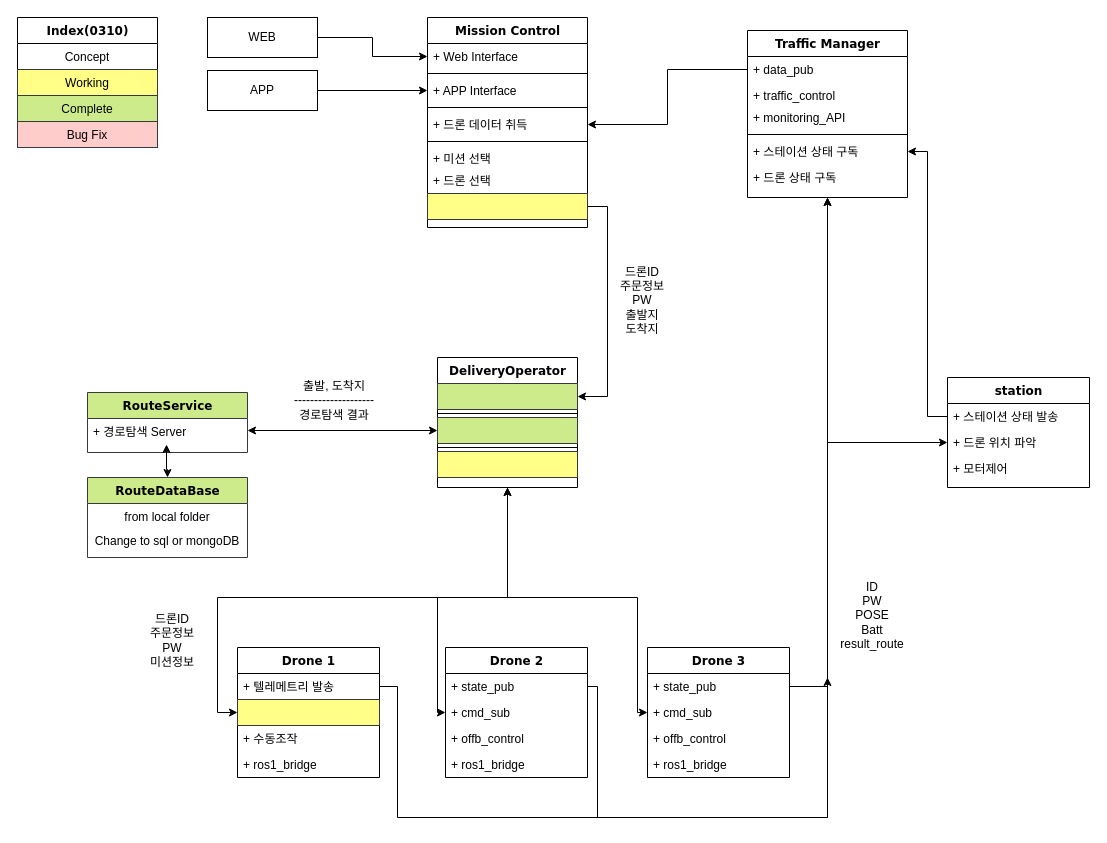
The diagram is 1107 pixels wide and 843 high, and some of its shapes have lost their labels. The centre of each missing label's shape, as x and y in pixels:
+ 경로탐색 client: pixel 507 430
+ 미션 입력: pixel 308 712
+ 미션 정보 취득: pixel 507 396
+ 미션 주입: pixel 507 464
+ 미션 지시: pixel 507 206
